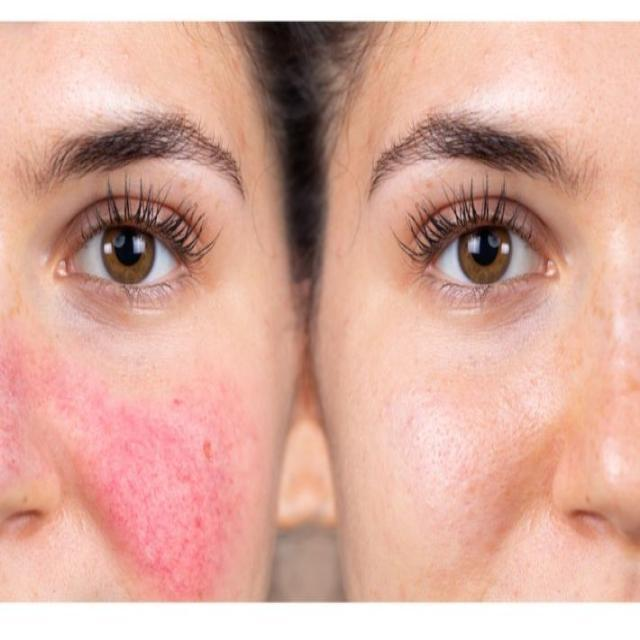Rosacea: (0, 327, 259, 600)
